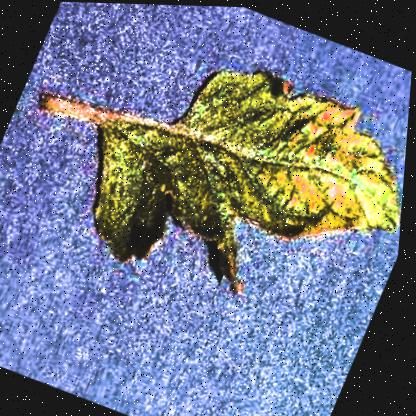Virus: (0, 0, 415, 350)
